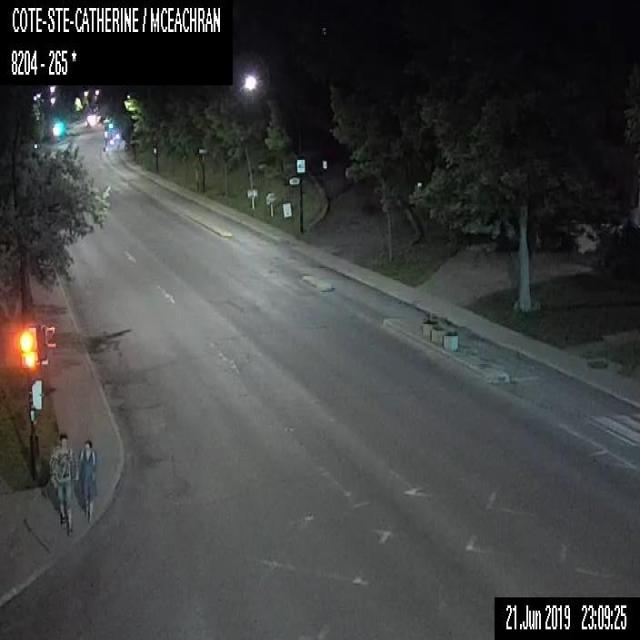pedestrian: (48, 434, 79, 534), (76, 439, 98, 522)
